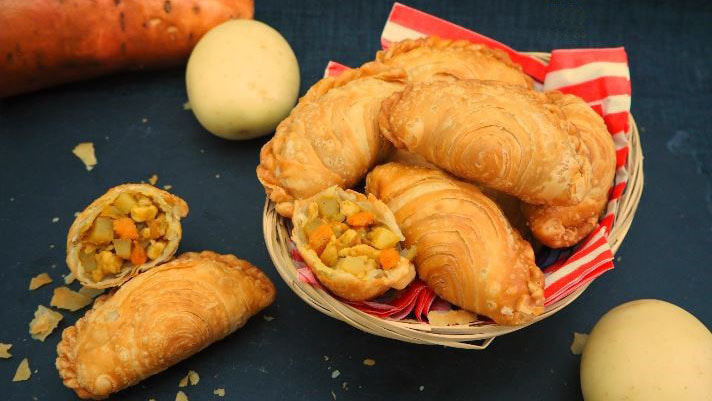Curry Puff: (35, 252, 284, 388), (358, 162, 556, 327), (381, 67, 590, 212), (263, 57, 403, 214), (533, 79, 623, 253), (289, 189, 412, 307), (65, 176, 192, 280)
